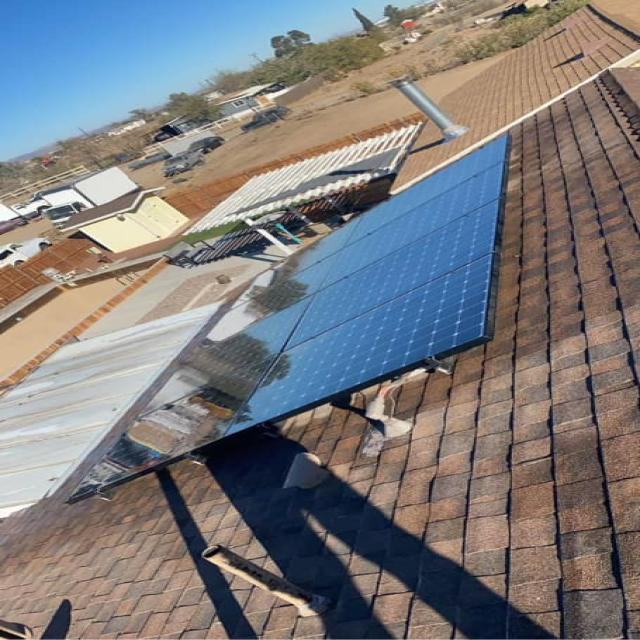clean-solar-panel: (74, 136, 509, 499)
